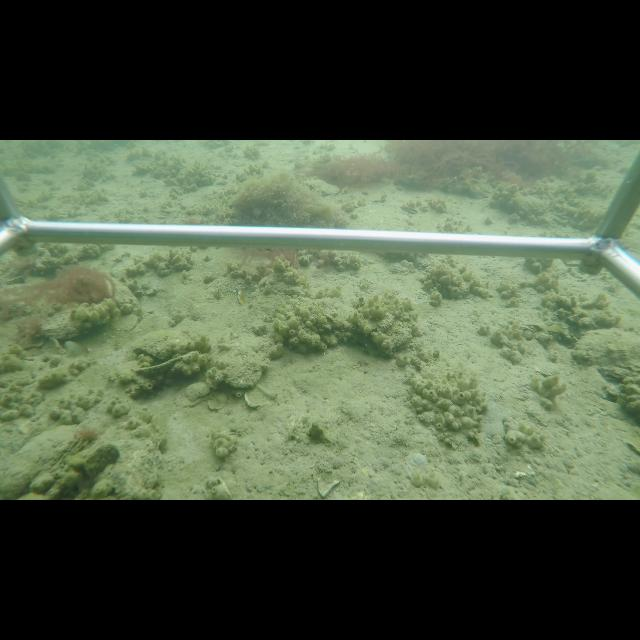Oyster-Closed: (206, 337, 271, 391)
